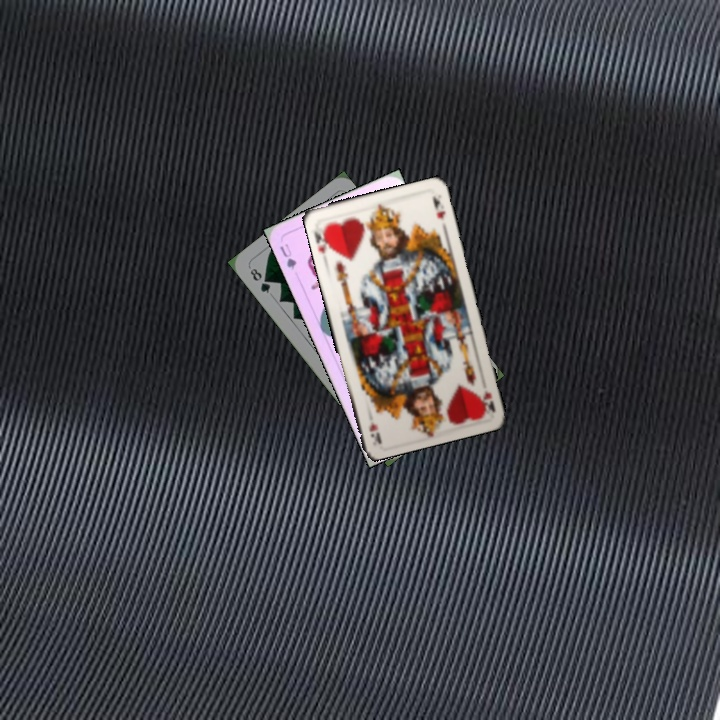G8: (246, 264, 273, 296)
GU: (276, 239, 299, 272)
HK: (310, 220, 335, 256), (476, 386, 498, 416)
